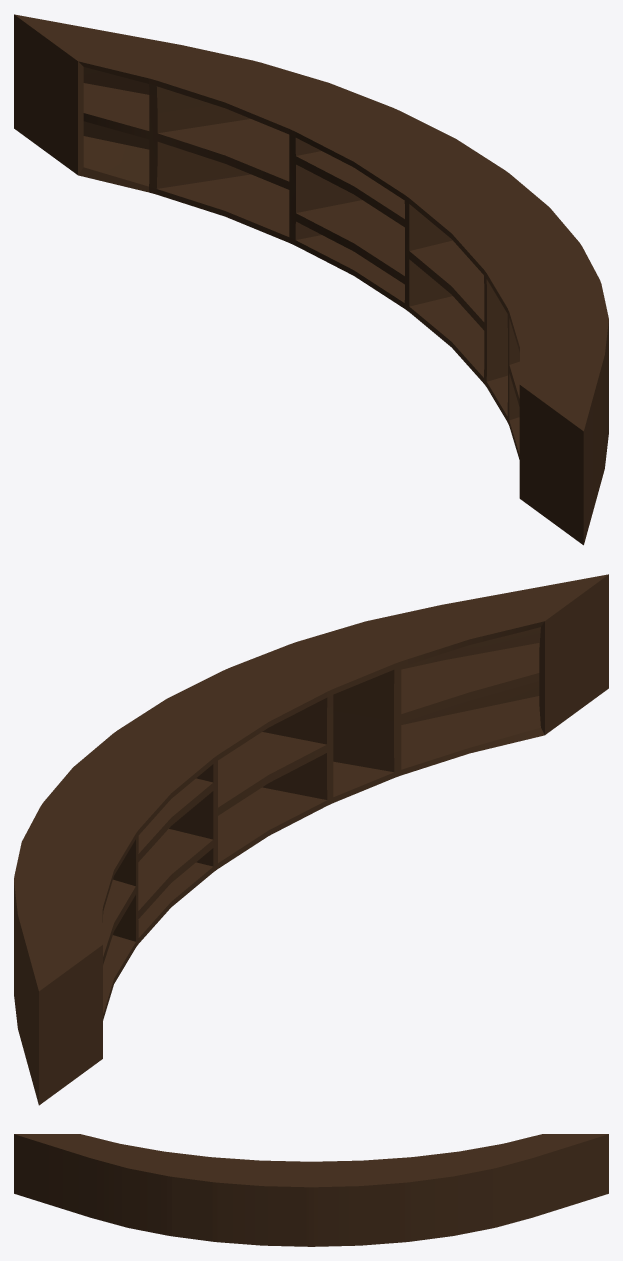
The model's file is STOL_V2.fbx.
3 renders of one model, top to bottom at view 1: azimuth 30°, elevation 25°; view 2: azimuth 150°, elevation 25°; view 3: azimuth 270°, elevation 25°, orthographic. The views are drawn at different scales.
Visible parts, largest first — view 1: Cube; view 2: Cube; view 3: Cube.
Boxes of the visible parts, x1,y1,x2,y2 form: Cube: (14,14,608,545); Cube: (14,574,608,1105); Cube: (14,1134,608,1246).
Size of the model in its own units: 383 by 200 by 1810.
